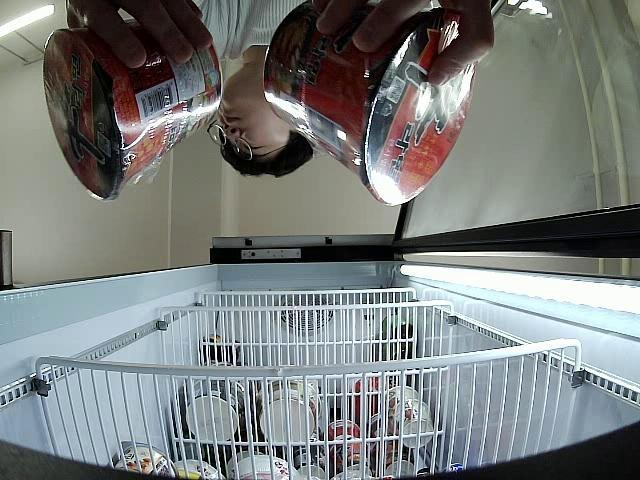01_ShinRamen_L: (263, 0, 476, 207), (42, 15, 222, 202)
